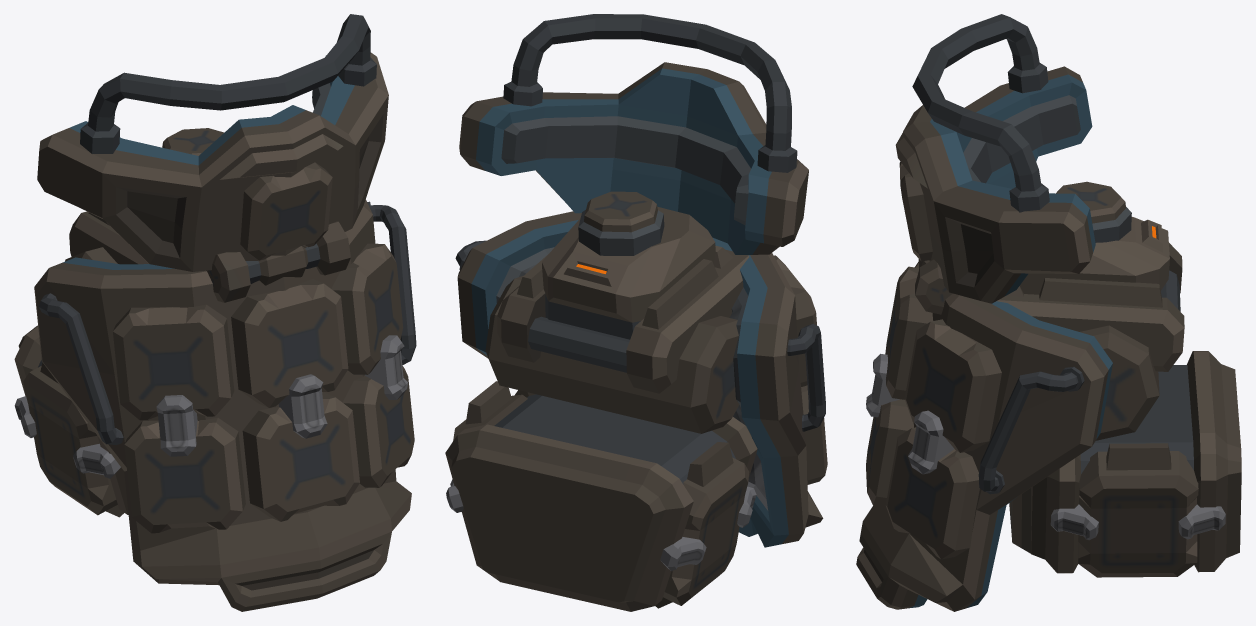
The model's file is SM_Mech_Arm_01_Armor_Shoulder_08.fbx.
3 renders of one model, left to right at view 1: azimuth 30°, elevation 25°; view 2: azimuth 150°, elevation 25°; view 3: azimuth 270°, elevation 25°, orthographic.
Parts seen in each view (by area): view 1: SM_Mech_Arm_01_Armor_Shoulder_08; view 2: SM_Mech_Arm_01_Armor_Shoulder_08; view 3: SM_Mech_Arm_01_Armor_Shoulder_08.
Part boxes in pixels (x1,y1,x2,y2): SM_Mech_Arm_01_Armor_Shoulder_08: (14,14,416,611); SM_Mech_Arm_01_Armor_Shoulder_08: (445,14,827,611); SM_Mech_Arm_01_Armor_Shoulder_08: (856,14,1241,611).
Bounding box in the file's own units: 116 × 162 × 110.
